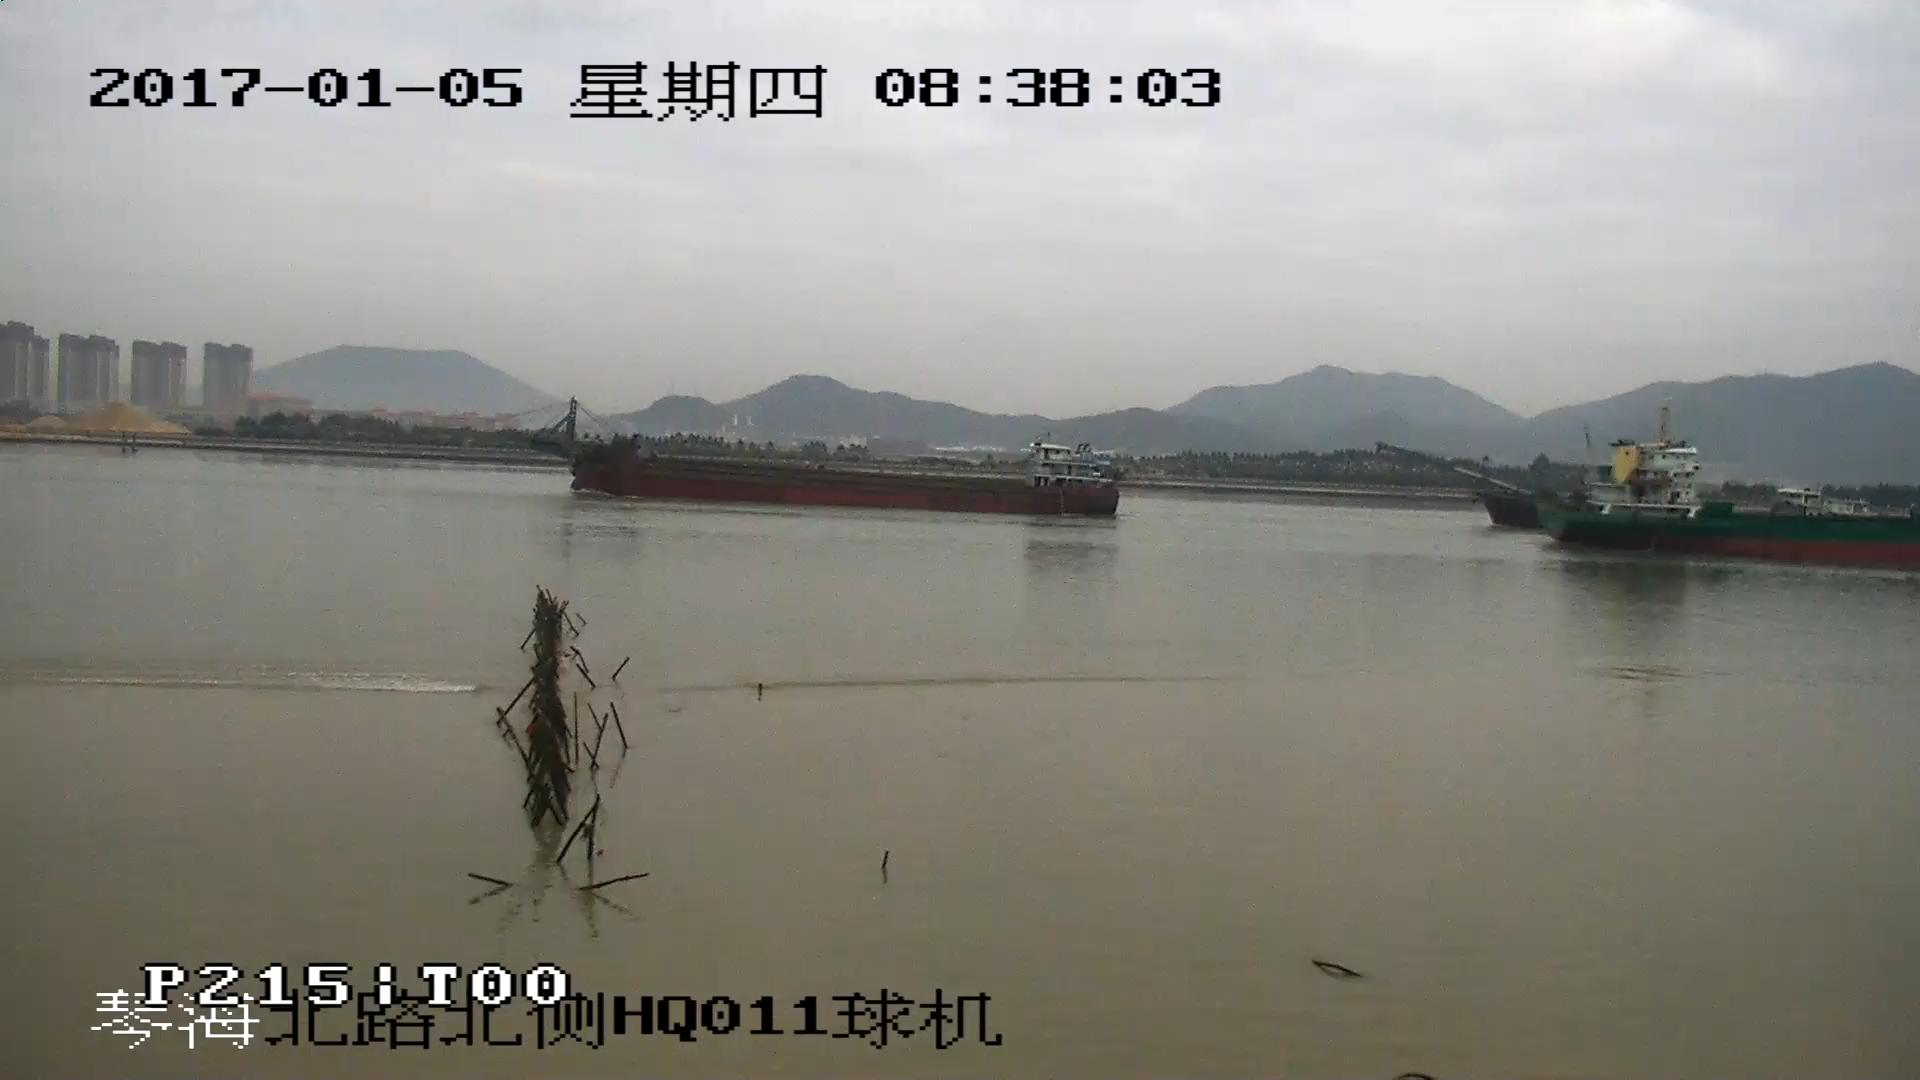bulk cargo carrier: (519, 400, 1117, 516)
general cargo ship: (1374, 437, 1920, 563)
